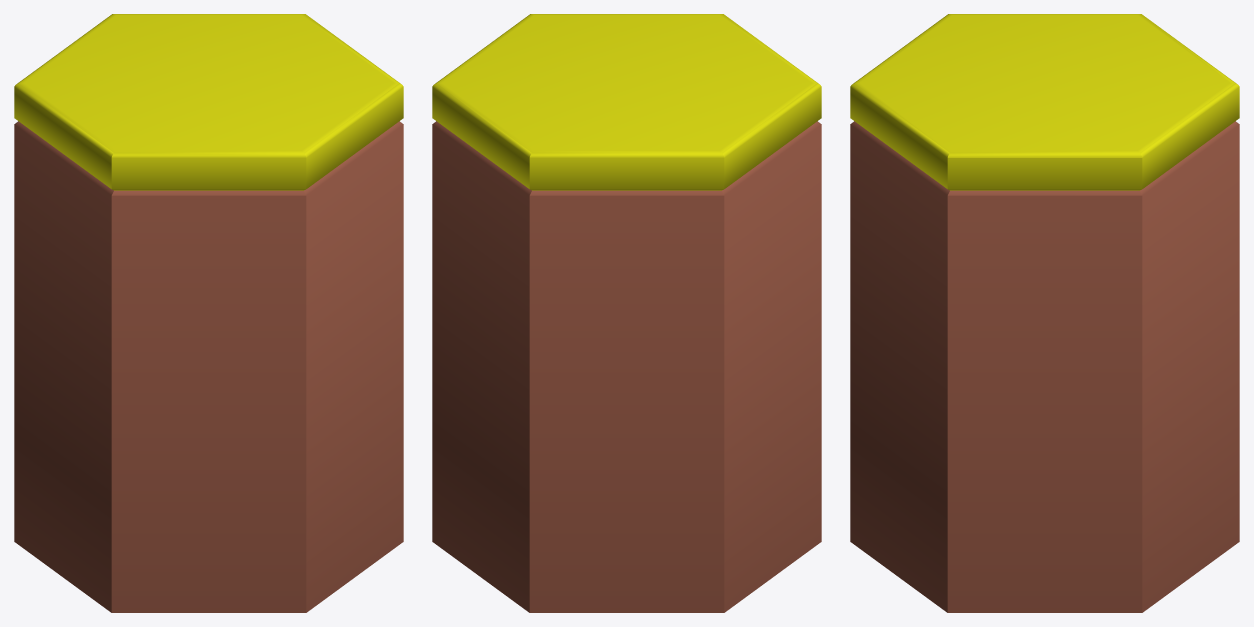
The model's file is tile_base_sand.glb.
3 views of the same model, side by side, from view 1: azimuth 30°, elevation 25°; view 2: azimuth 150°, elevation 25°; view 3: azimuth 270°, elevation 25° (orthographic).
Parts seen in each view (by area): view 1: hex_forest_detail; view 2: hex_forest_detail; view 3: hex_forest_detail.
Part boxes in pixels (x1,y1,x2,y2): hex_forest_detail: [14, 14, 403, 612]; hex_forest_detail: [432, 14, 821, 612]; hex_forest_detail: [850, 14, 1239, 612].
Bounding box in the file's own units: 2 × 3 × 2.31.
